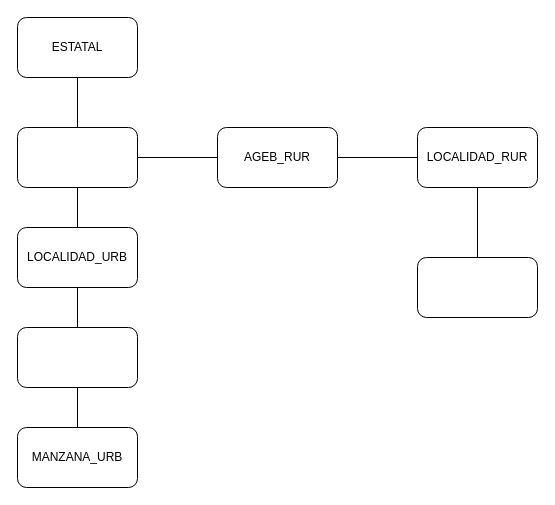
The diagram is 555 pixels wide and 505 high, and some of its shapes have lost their labels. Each missing label, with the centre of its shape:
AGEB_URB: [77,357]
MANZANA_RUR: [477,287]
MUNICIPAL: [77,157]
